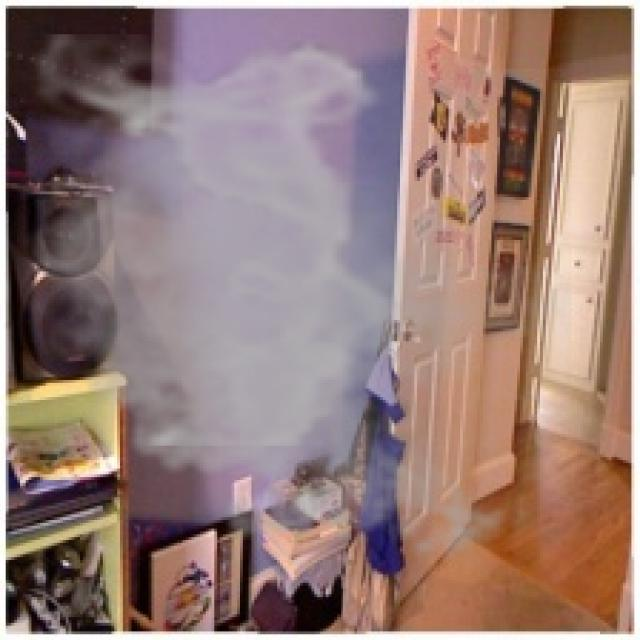Smoke: (6, 34, 572, 574)
